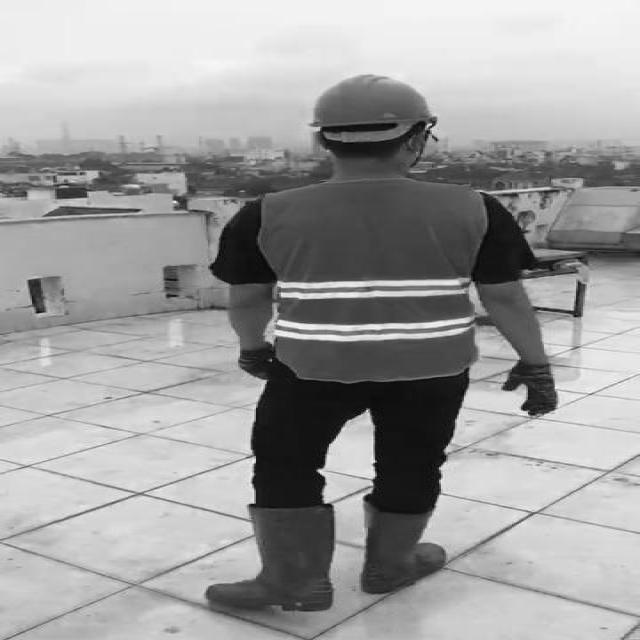boots: (205, 506, 332, 610), (363, 506, 446, 595)
hand_glove: (505, 362, 562, 416)
head_helmet: (308, 70, 440, 130)
person: (182, 65, 582, 616)
vest: (265, 182, 485, 384)
